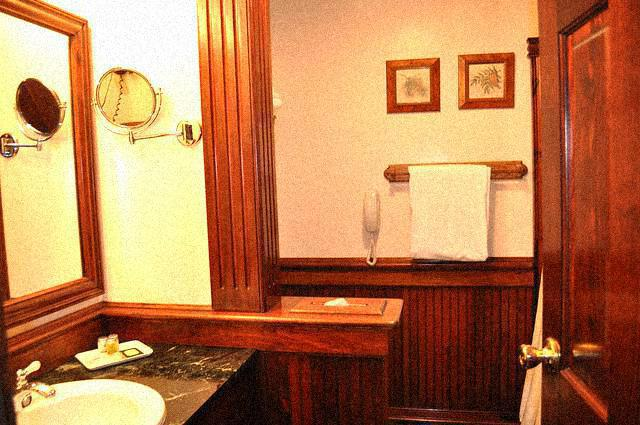Lavamanos: (0, 354, 168, 424)
